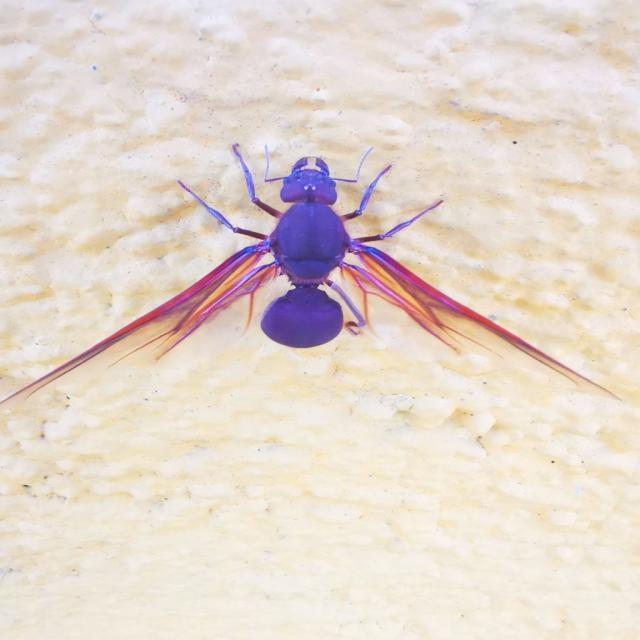Alive-Female-Alate: (0, 140, 623, 406)
